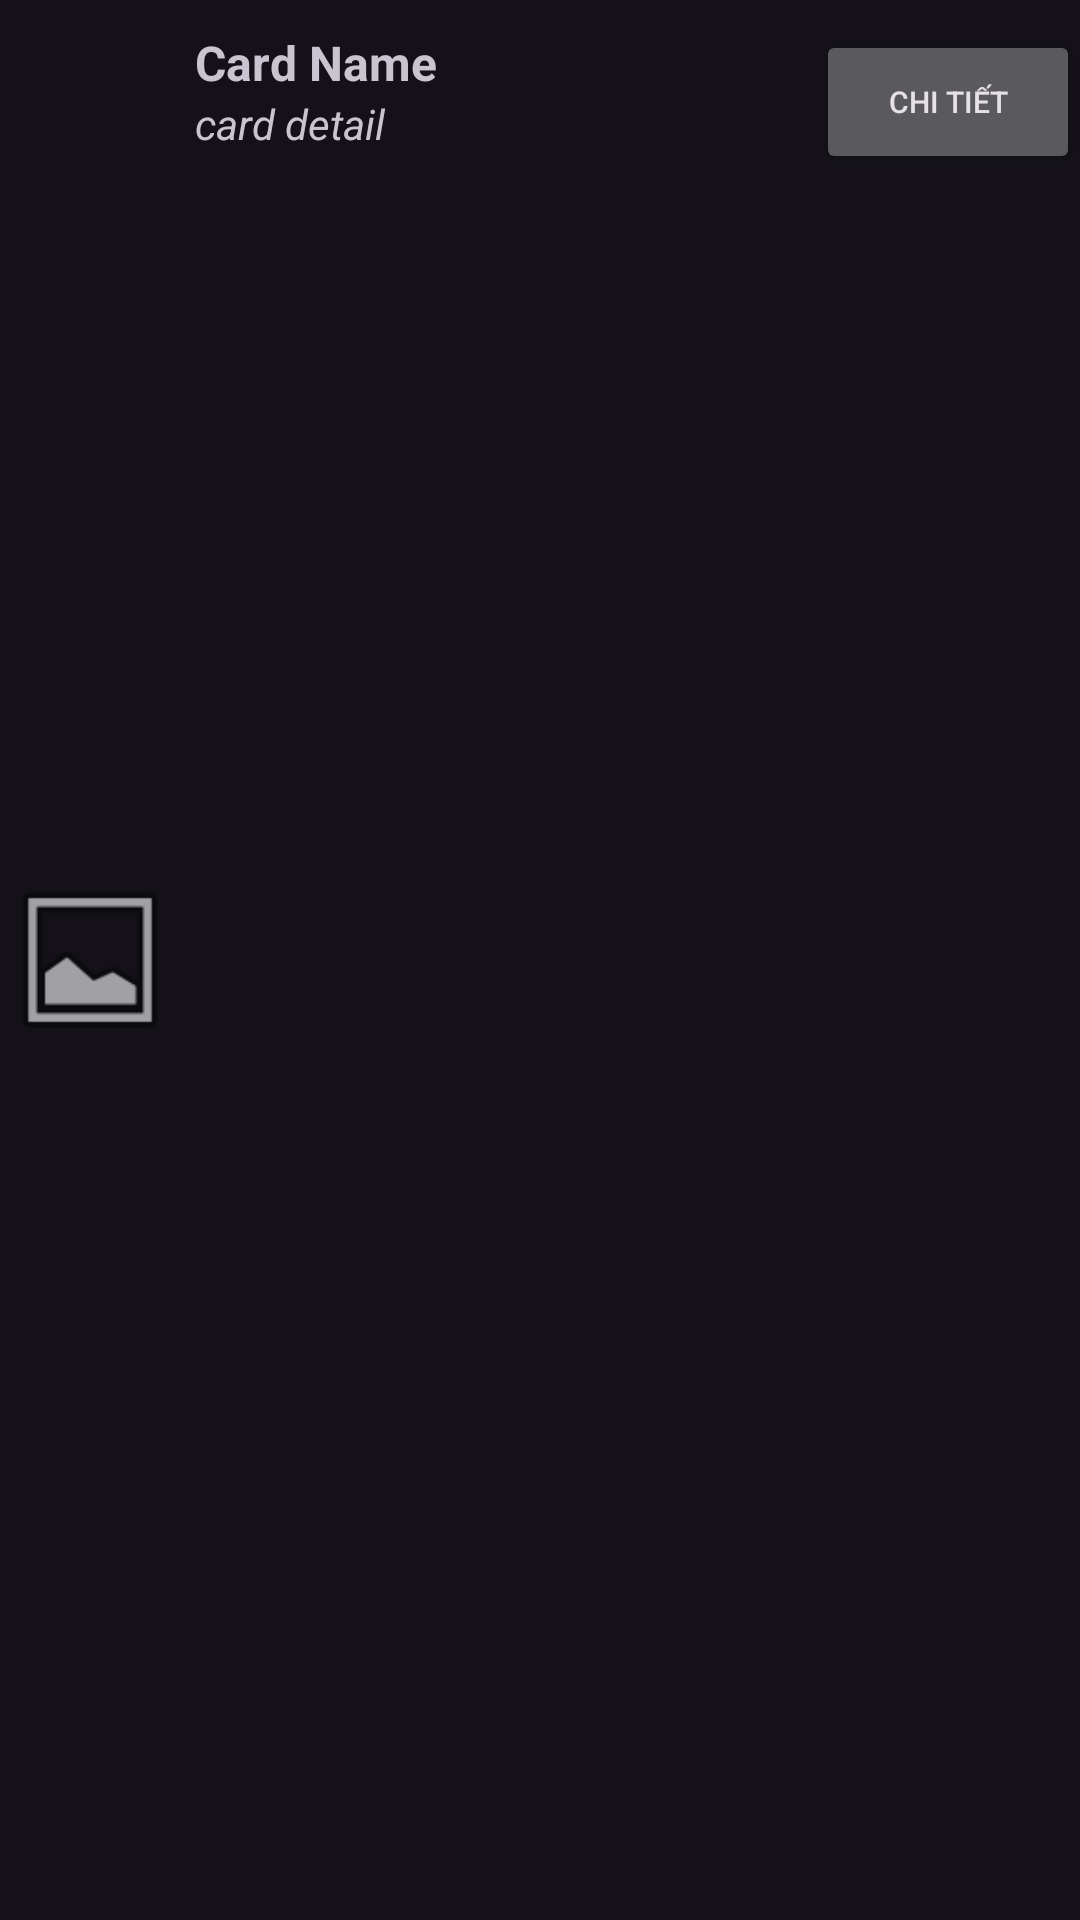

Locate icon controls on the screen. Image size 1080w x 1920h, boxes as (x1, y1, x2, y2).
gallery: (28, 898, 152, 1022)
